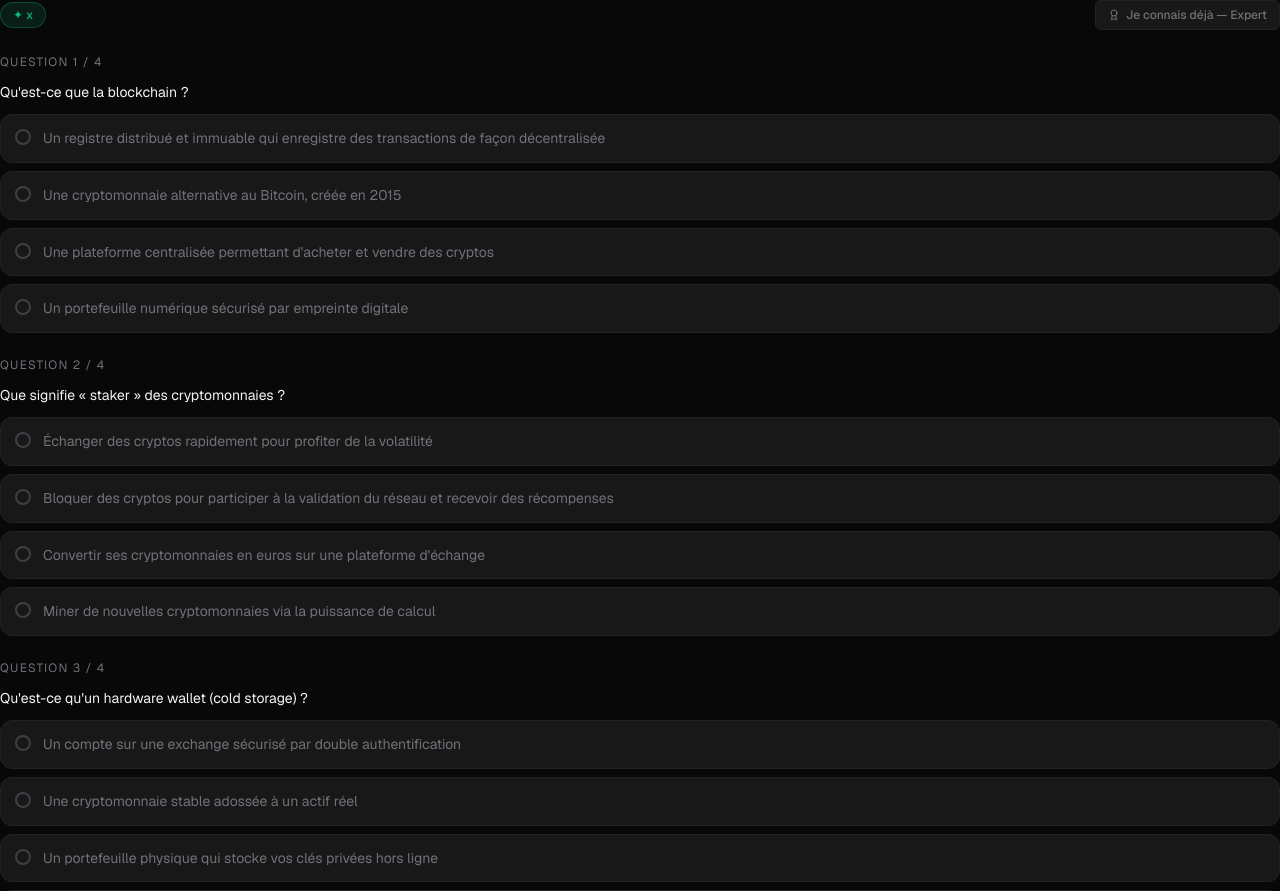
Test case: QuizStep + ConfirmDialog (consolidation 2) › mention du domaine crypto dans la description
This screenshot has width=1280, height=891.
What coordinates should you click on to do the following:
click the button "Je connais déjà — Expert"
I would click on:
 (1188, 15)
Its box is 1095,0 -> 1279,30.
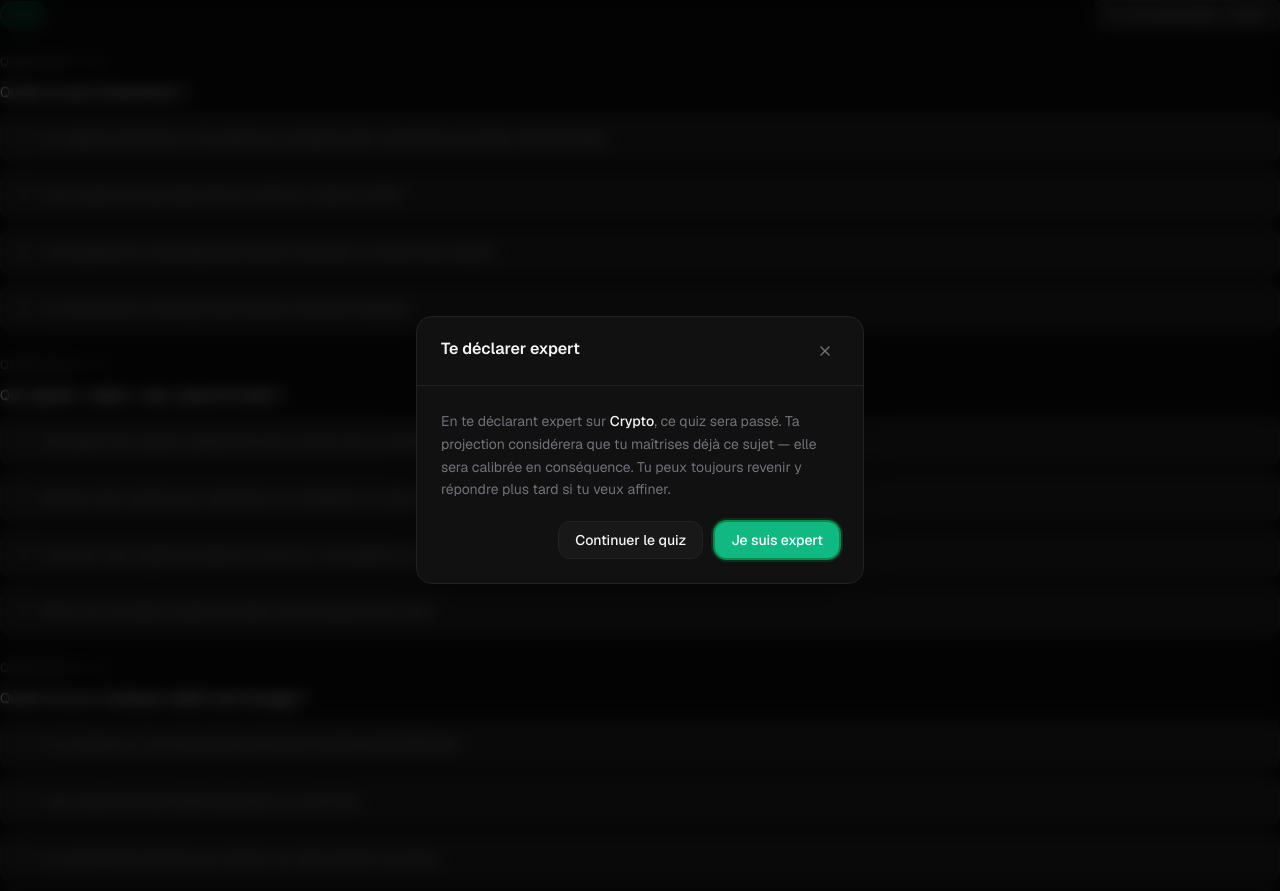
Now the text "Crypto" is shown, box 610,412 -> 654,430
